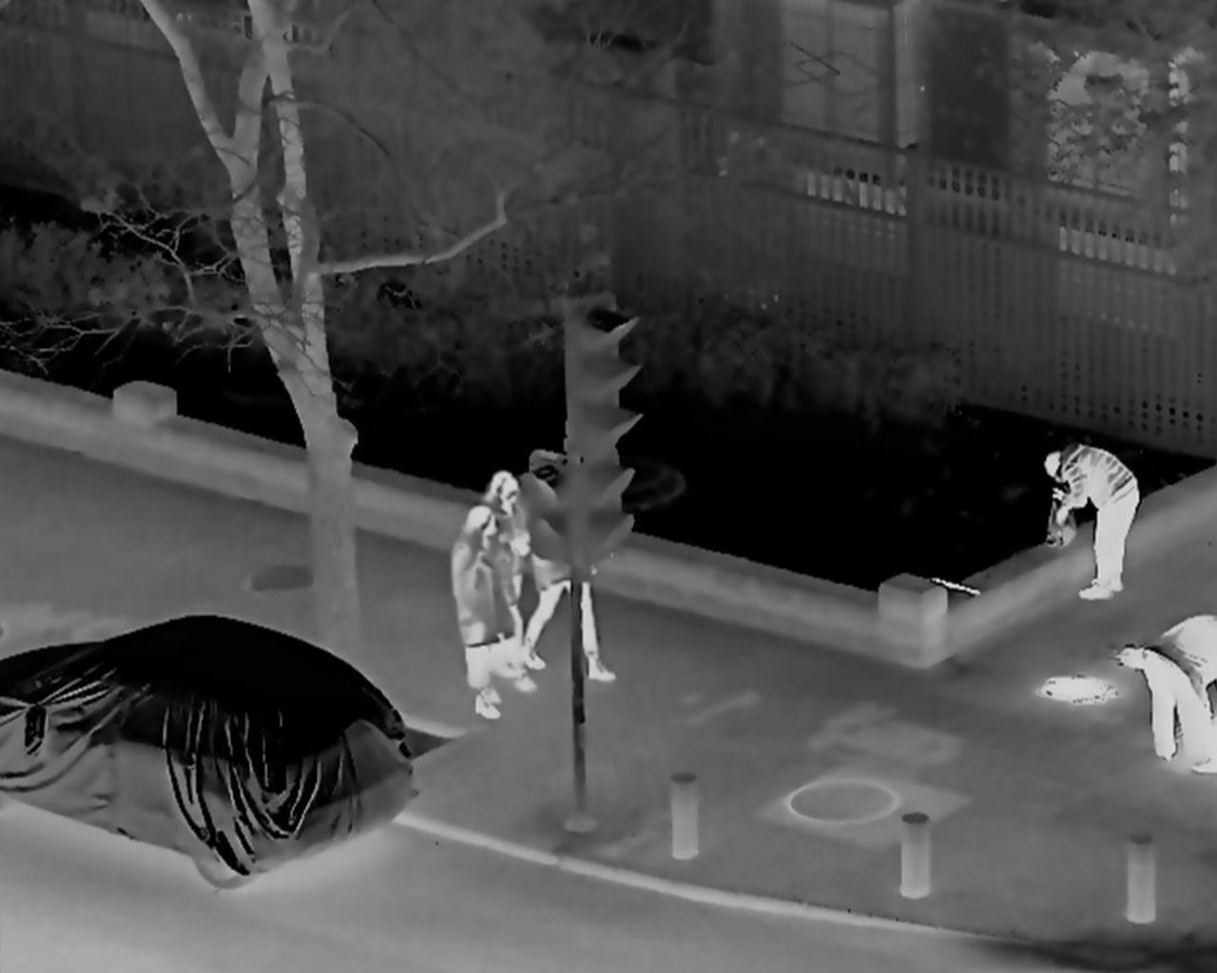person: (522, 468, 622, 684), (1030, 445, 1140, 597), (442, 506, 516, 722), (1147, 610, 1216, 775), (478, 470, 527, 695)
